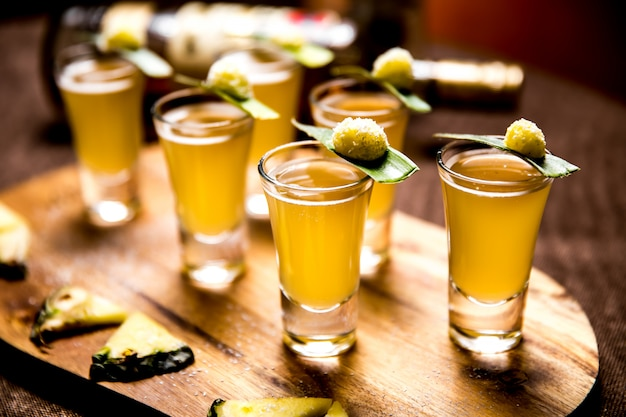alcohol: (435, 132, 556, 359), (253, 133, 375, 357), (147, 82, 260, 281), (312, 77, 410, 277), (202, 42, 303, 220), (57, 51, 152, 233)
